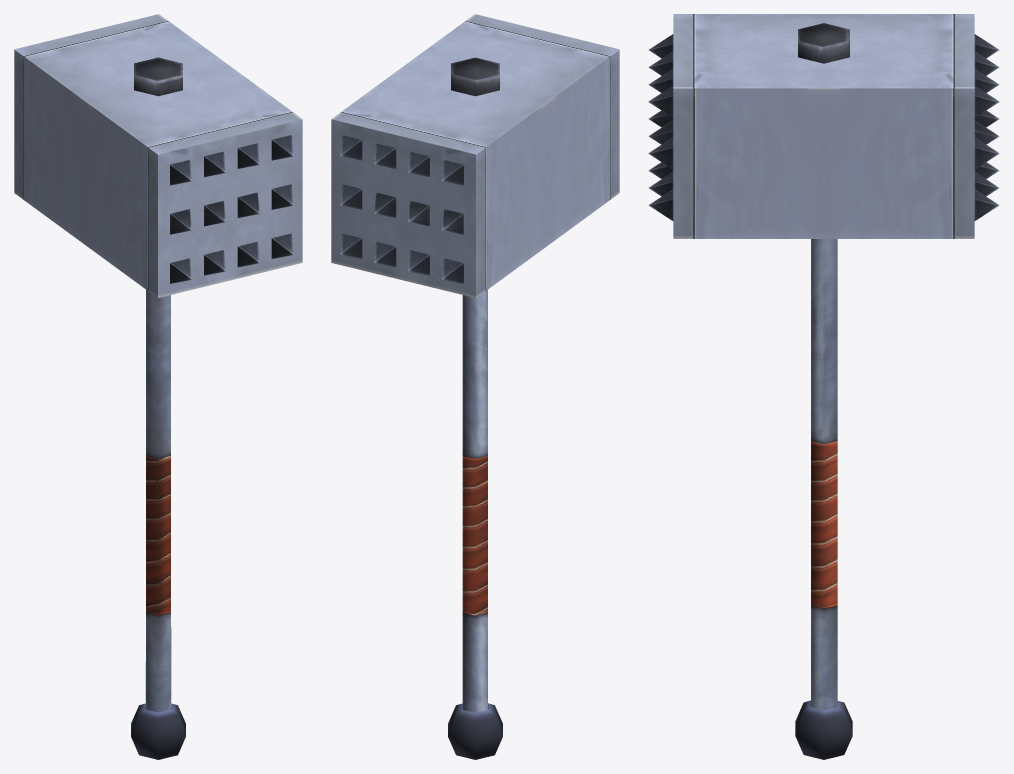
Rendered from Hammer1.FBX.
The picture shows the model from 3 angles, left to right: view 1: azimuth 30°, elevation 25°; view 2: azimuth 150°, elevation 25°; view 3: azimuth 270°, elevation 25°; orthographic projection. The views are drawn at different scales.
Parts seen in each view (by area): view 1: Hammer1; view 2: Hammer1; view 3: Hammer1.
Boxes of the visible parts, box(x1,y1,x2,y2) form: Hammer1: box(14, 14, 302, 759); Hammer1: box(331, 14, 619, 759); Hammer1: box(648, 14, 999, 759).
Size of the model in its own units: 0.2822 by 1.28 by 0.5646.
